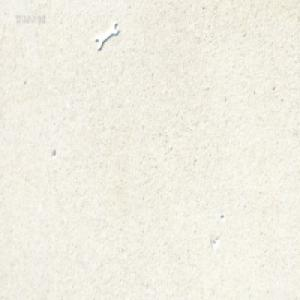Wrench: (94, 25, 117, 54)
